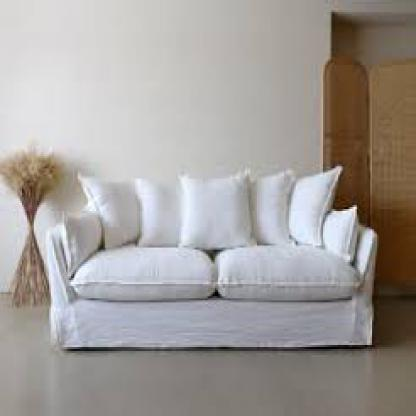sofa: (45, 171, 378, 357)
